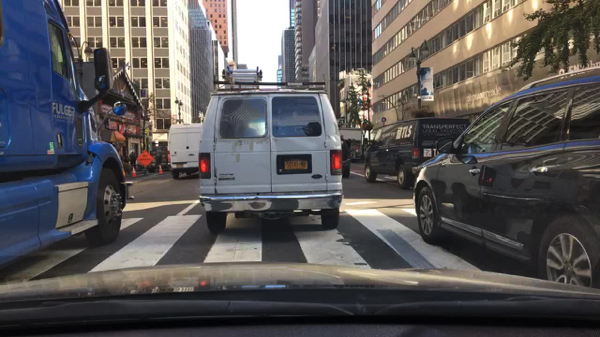car: (198, 66, 345, 233)
person: (339, 138, 353, 179), (129, 152, 137, 168), (124, 153, 128, 166)
traffic sign: (138, 151, 154, 169), (382, 117, 386, 125)
truck: (410, 62, 598, 289), (0, 0, 138, 269), (361, 116, 471, 190), (167, 123, 200, 178), (339, 125, 363, 163)
